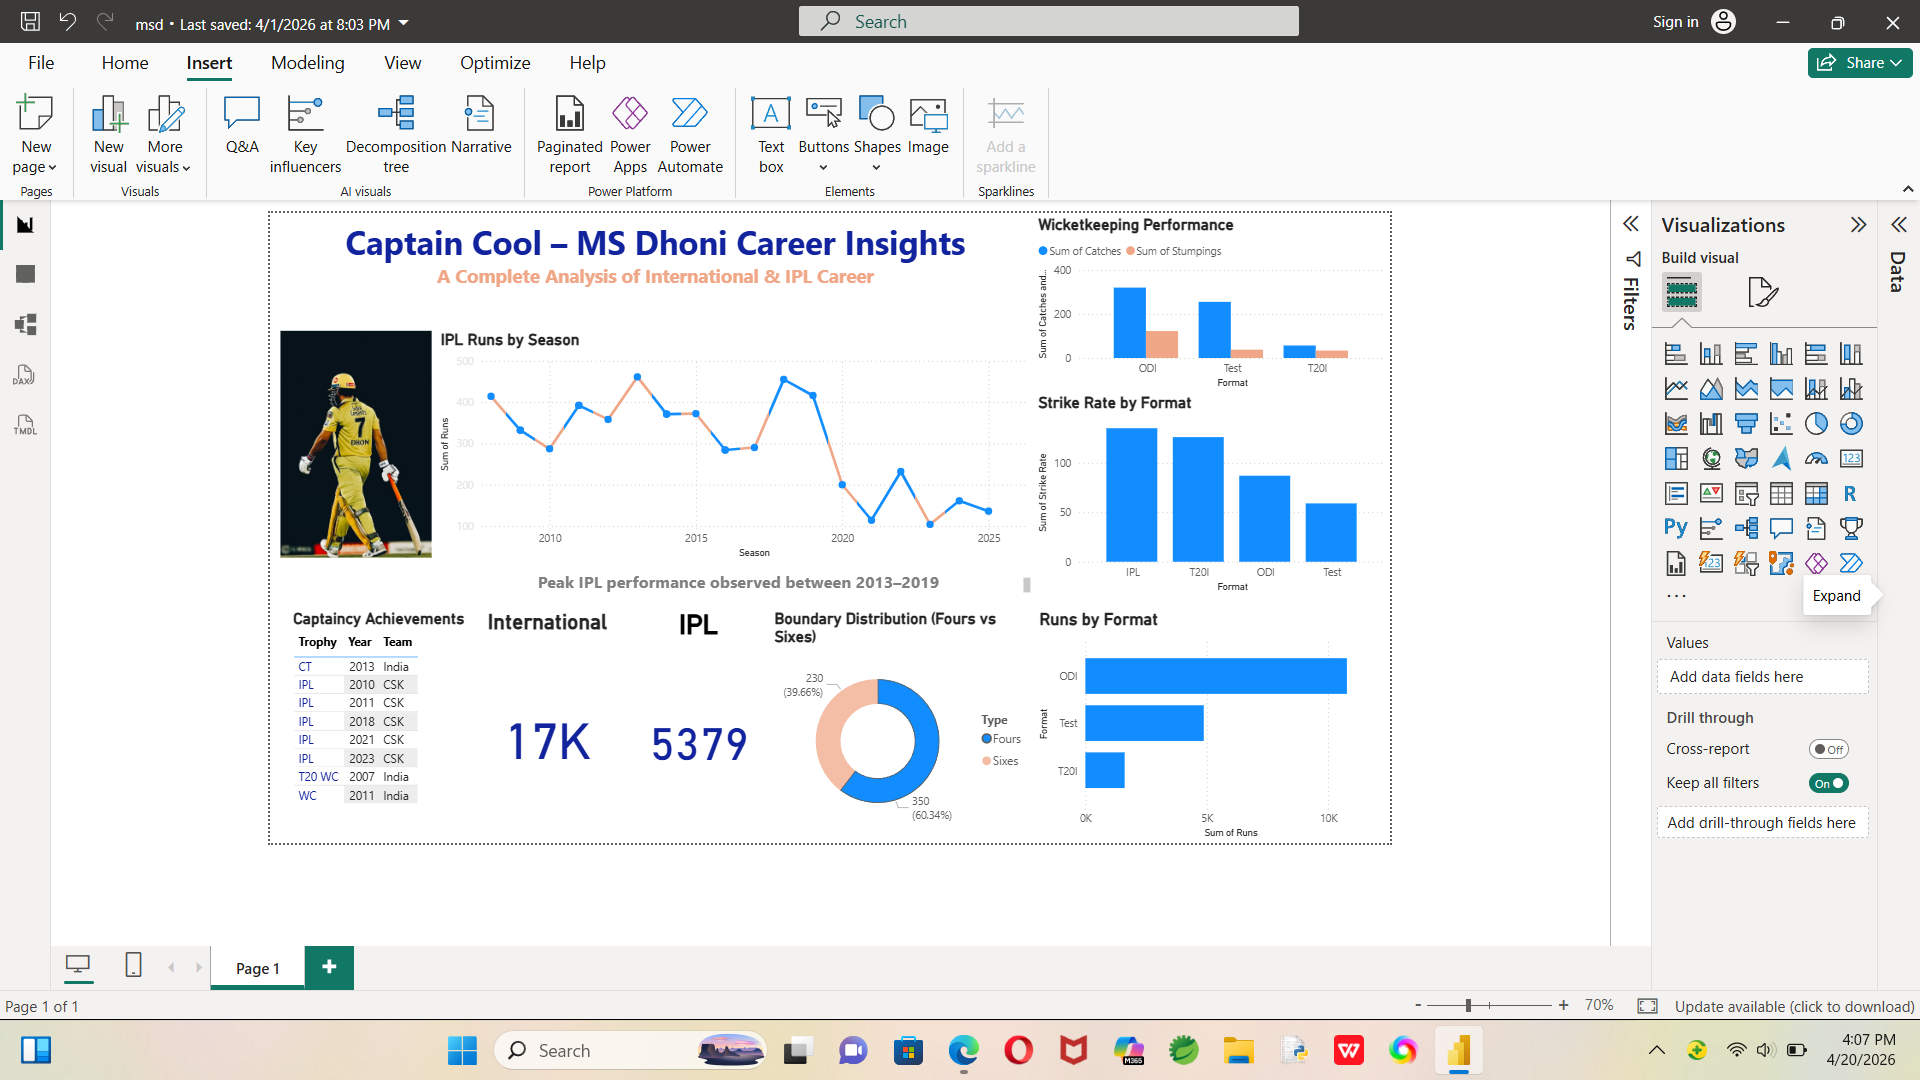

Layout of this report page (visuals, bound fields, positions):
{"tool":"powerbi","page":{"name":"Page 1","canvas":[1280,720],"ordinal":0},"visuals":[{"type":"card","title":"IPL","fields":{"Values":["Sum(IPL Career.Runs)"]},"box":[408.6,452.9,162.9,260],"z":0},{"type":"card","title":"International","fields":{"Values":["Sum(Batting Stats.Runs)"]},"box":[238.6,452.9,157.1,260],"z":1000},{"type":"clusteredBarChart","title":"Runs by Format","fields":{"Category":["Batting Stats.Format"],"Y":["Sum(Batting Stats.Runs)"]},"box":[874.3,452.9,405.7,267.1],"z":2000},{"type":"lineChart","title":"IPL Runs by Season","fields":{"Y":["Sum(IPL Career.Runs)"],"Category":["IPL Career.Season"]},"box":[190,134.3,682.9,265.7],"z":3000},{"type":"clusteredColumnChart","title":"Wicketkeeping Performance","fields":{"Category":["Wicketkeeping.Format"],"Y":["Sum(Wicketkeeping.Catches)","Sum(Wicketkeeping.Stumpings)"]},"box":[872.9,2.9,407.1,202.9],"z":4000},{"type":"clusteredColumnChart","title":"Strike  Rate by Format","fields":{"Category":["Strike Rate.Format"],"Y":["Sum(Strike Rate.Strike Rate)"]},"box":[872.9,205.7,407.1,232.9],"z":5000},{"type":"tableEx","title":"Captaincy Achievements","fields":{"Values":["Captaincy.Trophy","Captaincy.Year","Captaincy.Team"]},"box":[21.4,452.9,205.7,260],"z":6000},{"type":"donutChart","title":"Boundary Distribution (Fours vs Sixes)","fields":{"Category":["Boundary Distribution.Type"],"Y":["Sum(Boundary Distribution.Count)"]},"box":[571.4,452.9,301.4,260],"z":7000},{"type":"textbox","box":[6.7,3.3,866.7,131.7],"z":8000},{"type":"image","box":[7.1,91.4,182.9,345.7],"z":8001},{"type":"textbox","box":[204.3,400,670,38.6],"z":8002}]}

Visuals, with their boxes on the page's 1280x720 design canvas (x1, y1, x2, y2). These are canvas units, not pixel positions in the 1920x1080 screenshot, which may show the page scaled, cropped or inside an application window:
"IPL" card: [409, 453, 572, 713]
"International" card: [239, 453, 396, 713]
"Runs by Format" clusteredBarChart: [874, 453, 1280, 720]
"IPL Runs by Season" lineChart: [190, 134, 873, 400]
"Wicketkeeping Performance" clusteredColumnChart: [873, 3, 1280, 206]
"Strike  Rate by Format" clusteredColumnChart: [873, 206, 1280, 439]
"Captaincy Achievements" tableEx: [21, 453, 227, 713]
"Boundary Distribution (Fours vs Sixes)" donutChart: [571, 453, 873, 713]
textbox: [7, 3, 873, 135]
image: [7, 91, 190, 437]
textbox: [204, 400, 874, 439]
